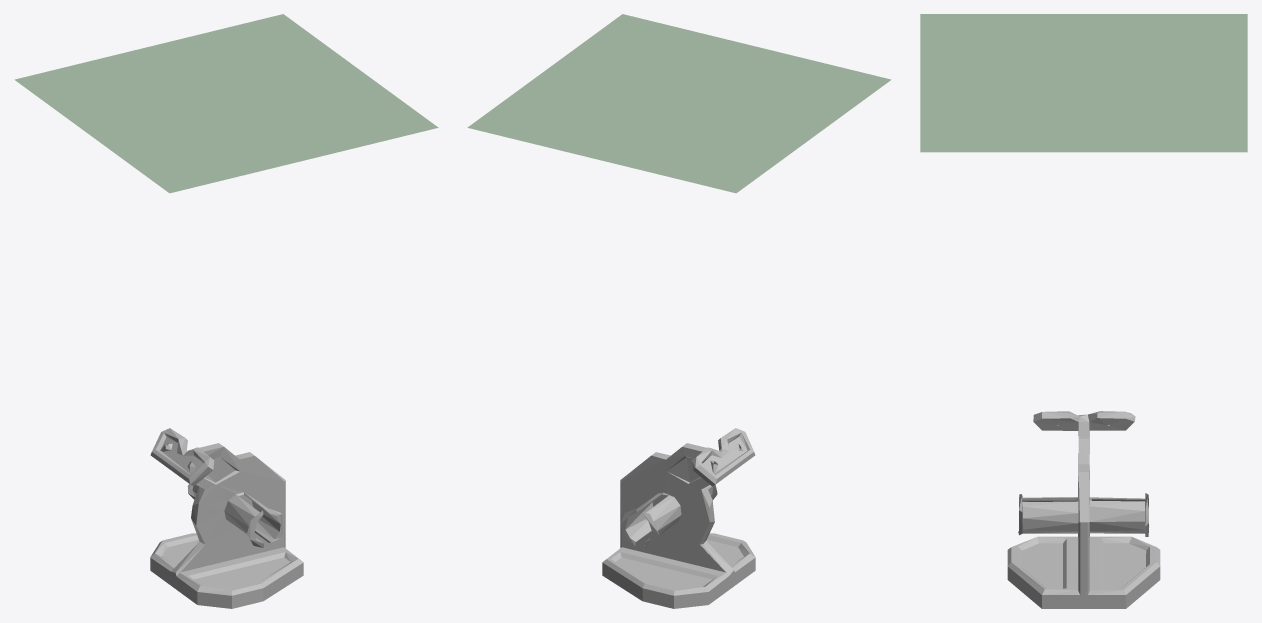
The model's file is init.glb.
The picture shows the model from 3 angles, left to right: view 1: azimuth 30°, elevation 25°; view 2: azimuth 150°, elevation 25°; view 3: azimuth 270°, elevation 25°; orthographic projection. The views are drawn at different scales.
Parts seen in each view (by area): view 1: world, object.obj; view 2: world, object.obj; view 3: world, object.obj.
Boxes of the visible parts, x1,y1,x2,y2 form: world: (14, 14, 438, 193); object.obj: (150, 428, 303, 608); world: (467, 14, 891, 193); object.obj: (602, 428, 755, 608); world: (920, 14, 1247, 152); object.obj: (1007, 411, 1160, 608).
Bounding box in the file's own units: 0.5975 × 0.9995 × 0.5975.
